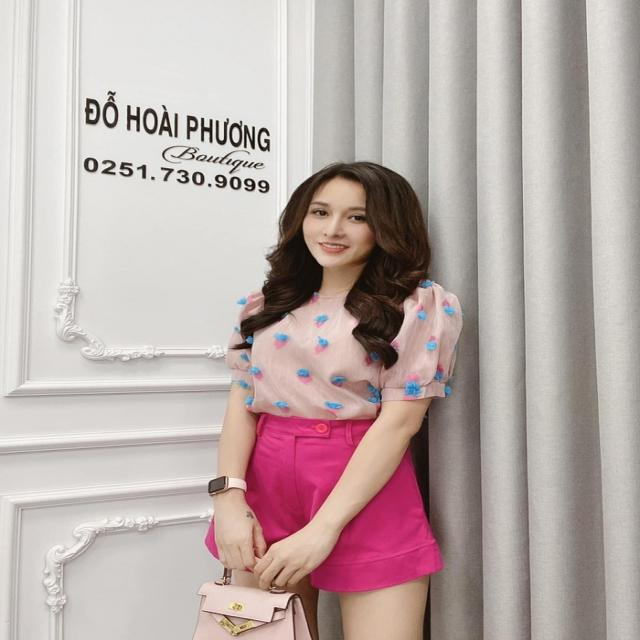clothes: (217, 270, 464, 587)
